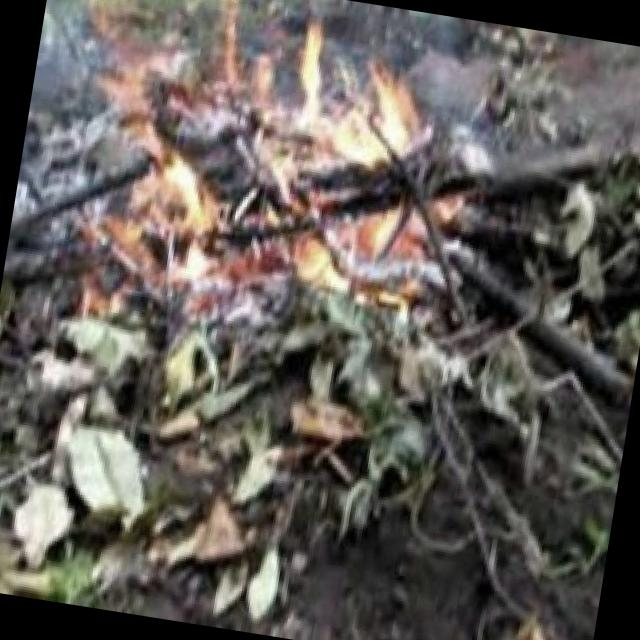fire: (67, 0, 475, 327)
